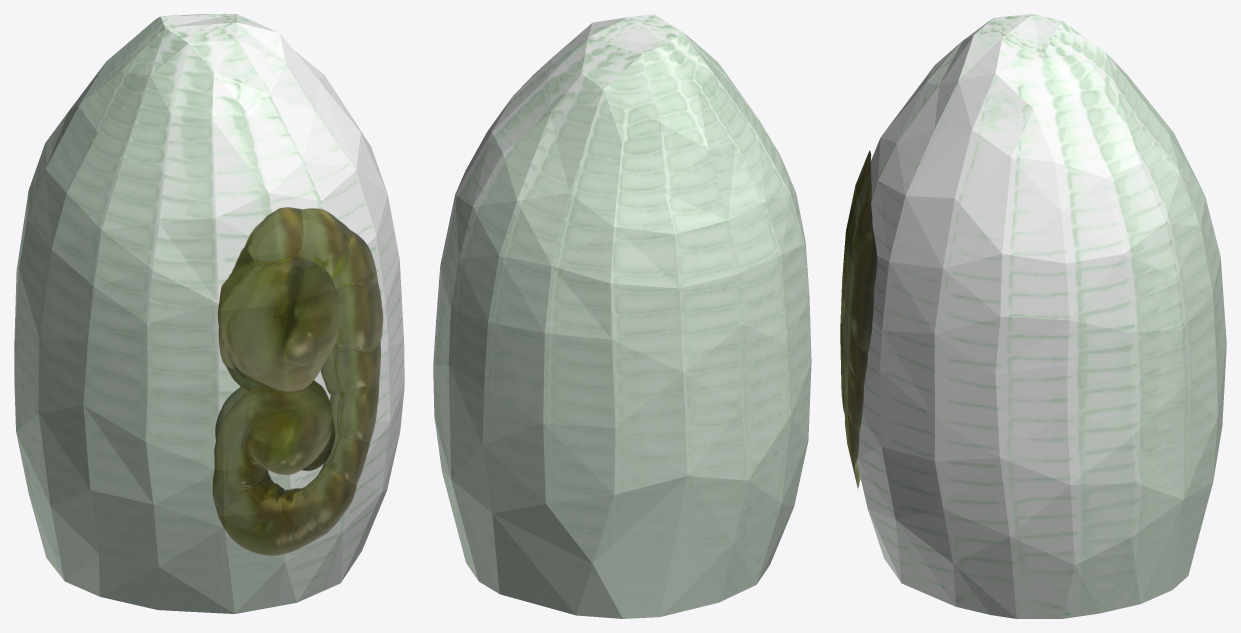
File: butterflypieriseffect.glb
3 views of the same model, side by side, from view 1: azimuth 30°, elevation 25°; view 2: azimuth 150°, elevation 25°; view 3: azimuth 270°, elevation 25° (orthographic). The views are drawn at different scales.
Parts seen in each view (by area): view 1: pieris_brassicae_day6_M1_ETOH_chorion.003, A_Pieris_morphtest12_AlienWorldGraphics1-pieris-d1_2; view 2: pieris_brassicae_day6_M1_ETOH_chorion.003; view 3: pieris_brassicae_day6_M1_ETOH_chorion.003, A_Pieris_morphtest12_AlienWorldGraphics1-pieris-d1_2.
Boxes of the visible parts, x1,y1,x2,y2 form: pieris_brassicae_day6_M1_ETOH_chorion.003: [14, 14, 404, 613]; A_Pieris_morphtest12_AlienWorldGraphics1-pieris-d1_2: [212, 207, 383, 555]; pieris_brassicae_day6_M1_ETOH_chorion.003: [433, 14, 811, 618]; pieris_brassicae_day6_M1_ETOH_chorion.003: [856, 14, 1226, 618]; A_Pieris_morphtest12_AlienWorldGraphics1-pieris-d1_2: [840, 150, 877, 491].
Size of the model in its own units: 1.22 by 1.86 by 1.24.
Materials: 2 (2 with a texture image).
